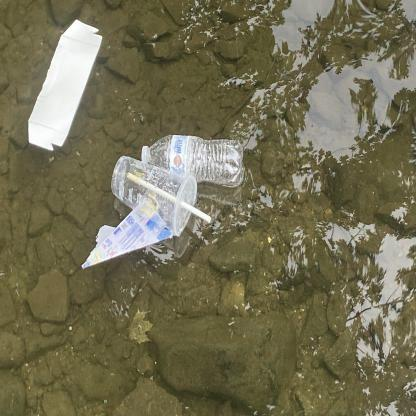Plastic: (83, 156, 212, 266), (142, 134, 243, 186)
Trash: (27, 17, 104, 154)
